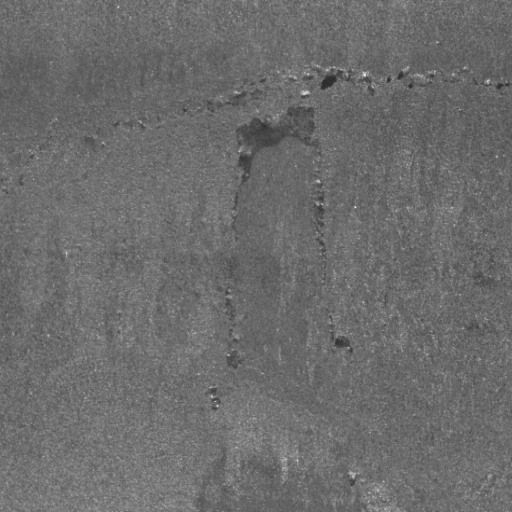aokeng: (229, 103, 339, 186)
